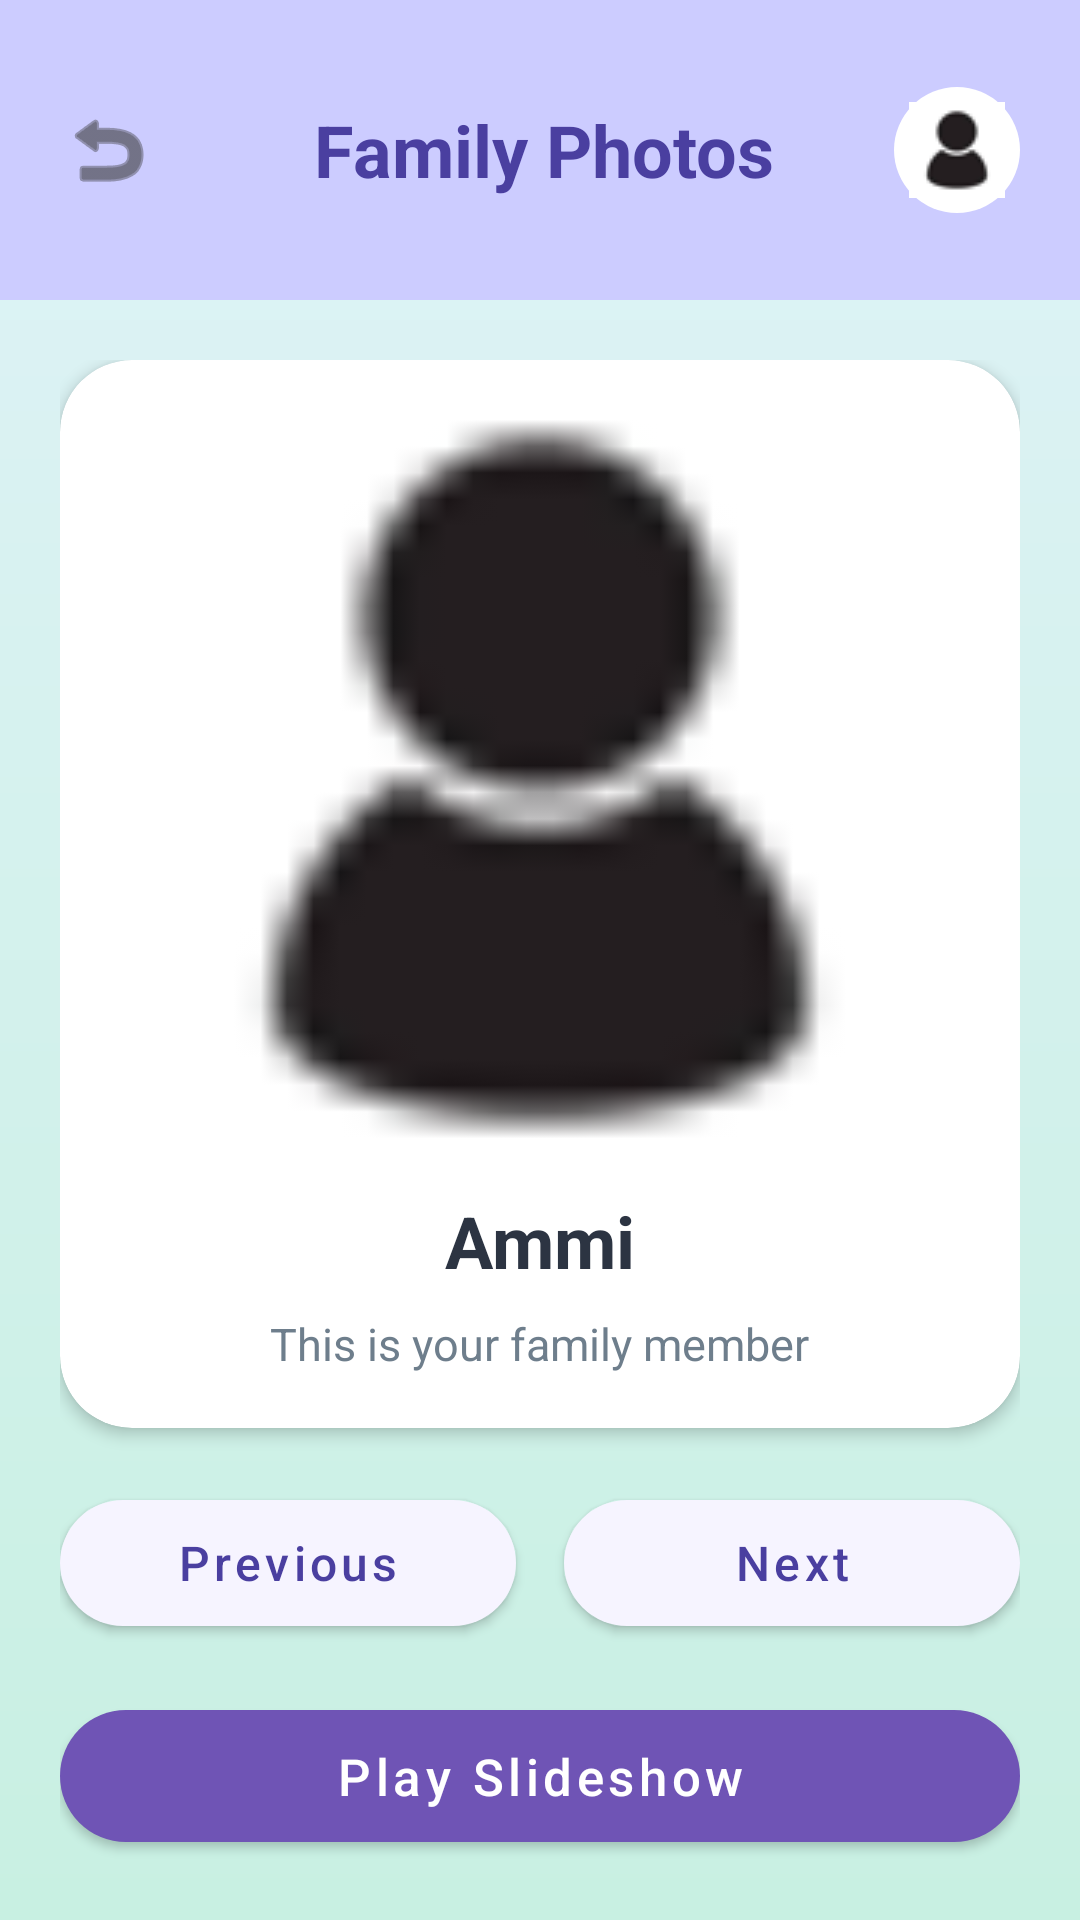

Screen size 1080x1920. Icon name, then its center in pixels as (x,y):
revert: (109,150)
